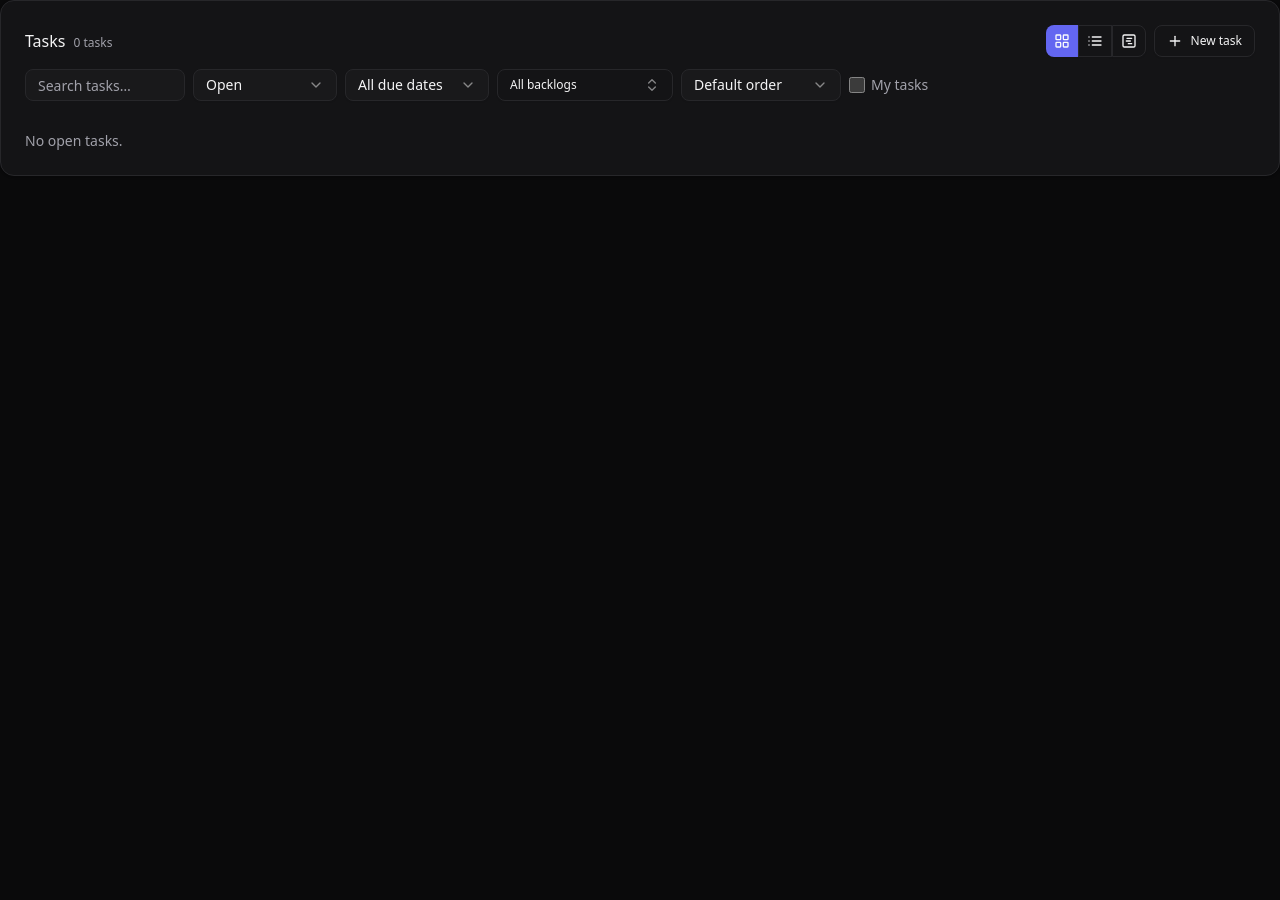
it: TaskListSection › requires a title before posting a new task
Click the button "New task": [1204, 41] box [1154, 25, 1255, 57]
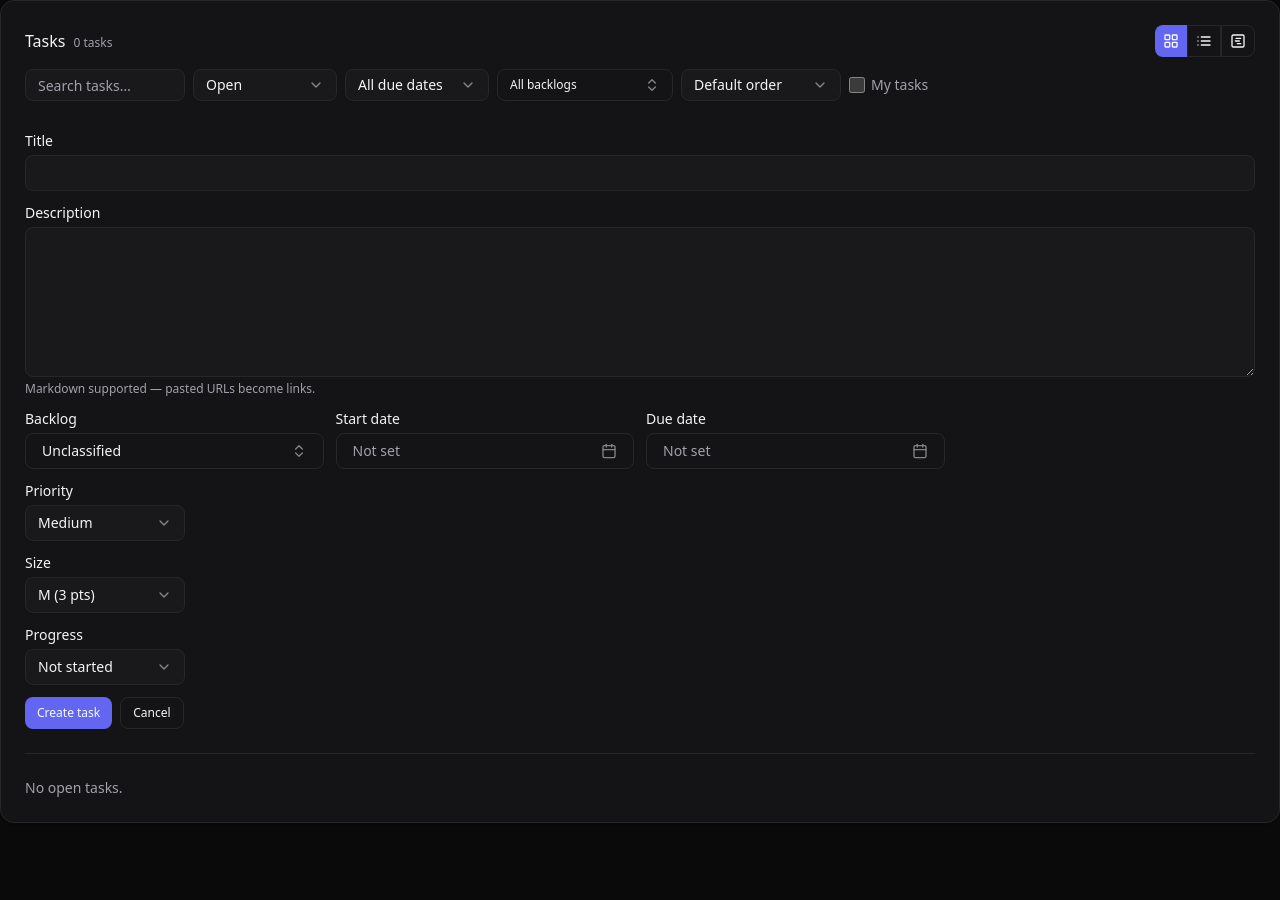
Click the button "Create task": [69, 713] box [25, 697, 112, 729]
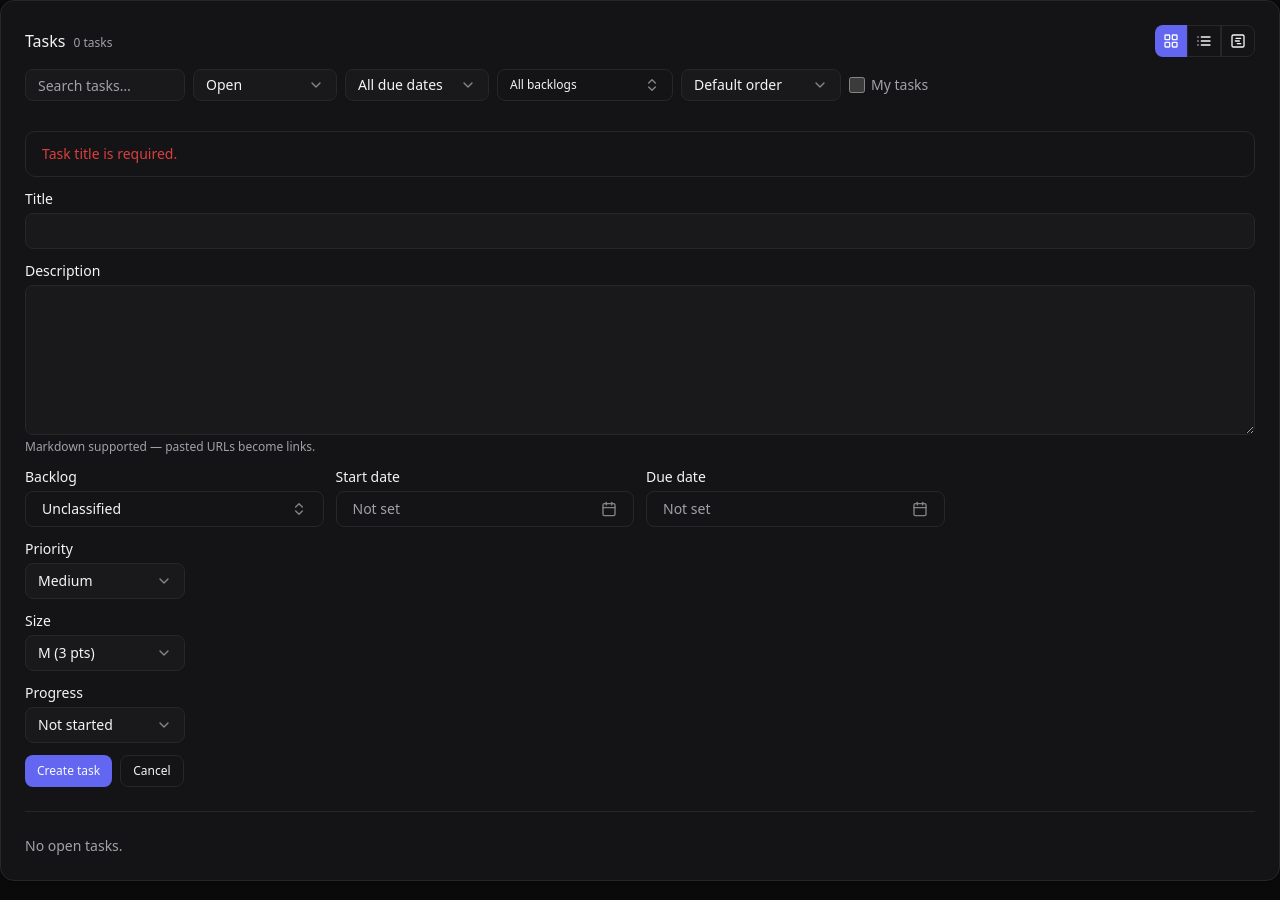
Expected: the text "Task title is required." is shown, [42, 144, 177, 163]
